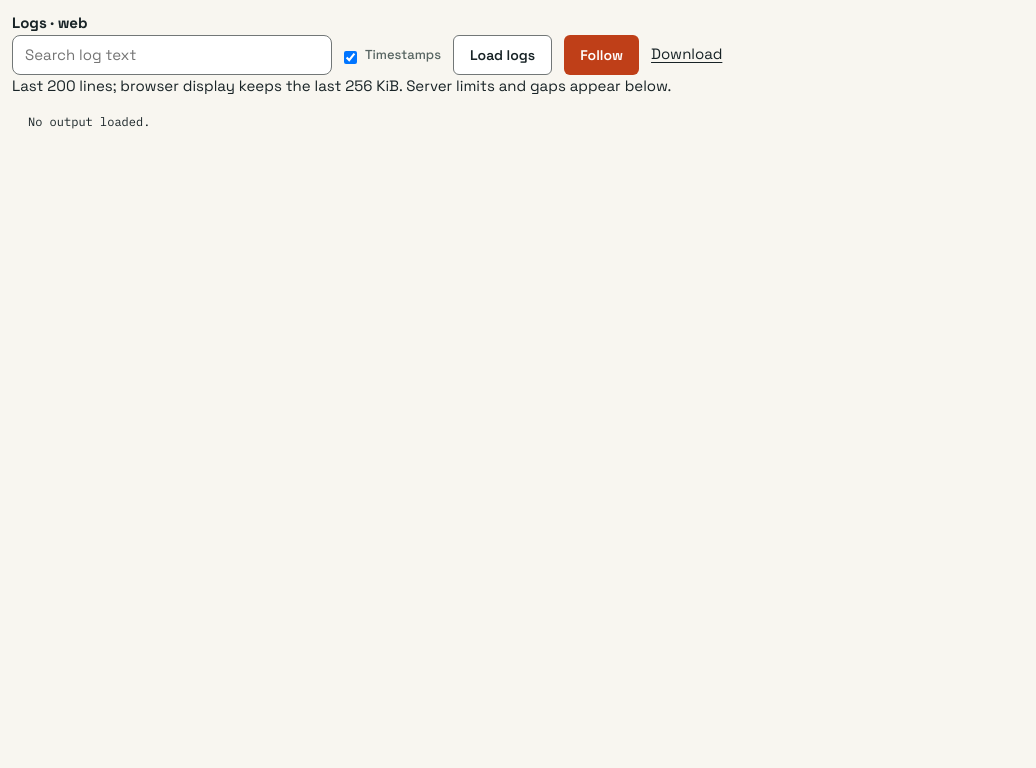
Test case: bounds the browser log display and aborts its request on unmount
The image size is (1036, 768).
What coordinates should you click on to do the following:
click the button "Load logs"
I would click on:
 (503, 54)
Its box is left=453, top=34, right=552, bottom=74.
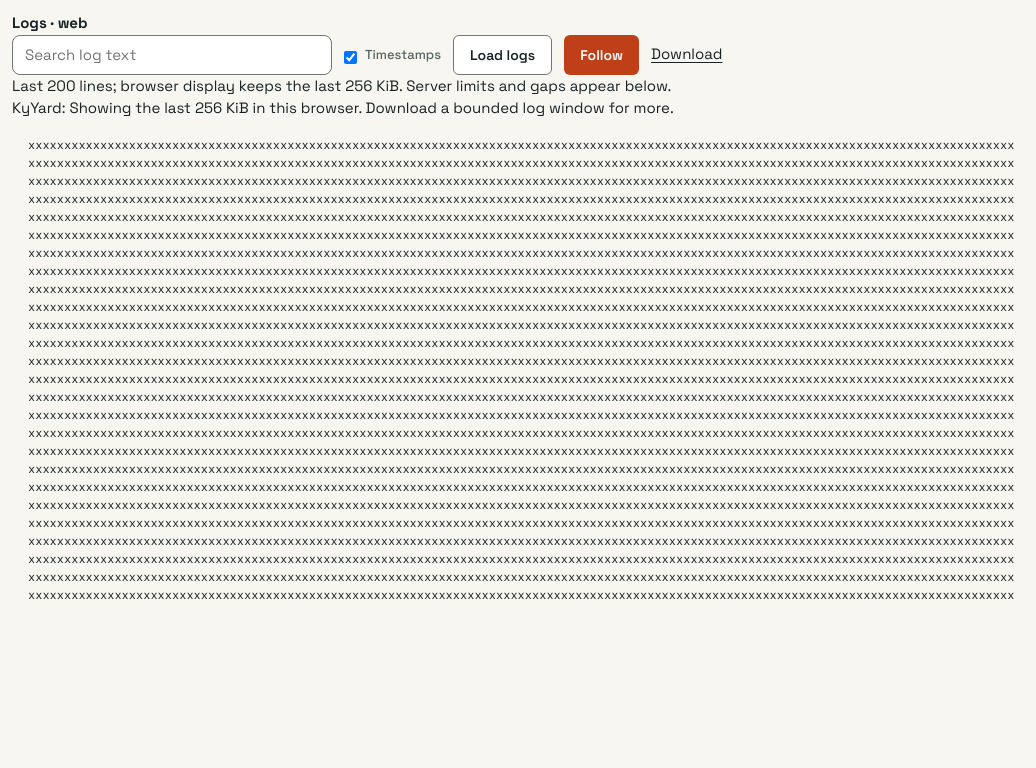
Check: the message shows "last 256 KiB", box left=69, top=98, right=674, bottom=117
